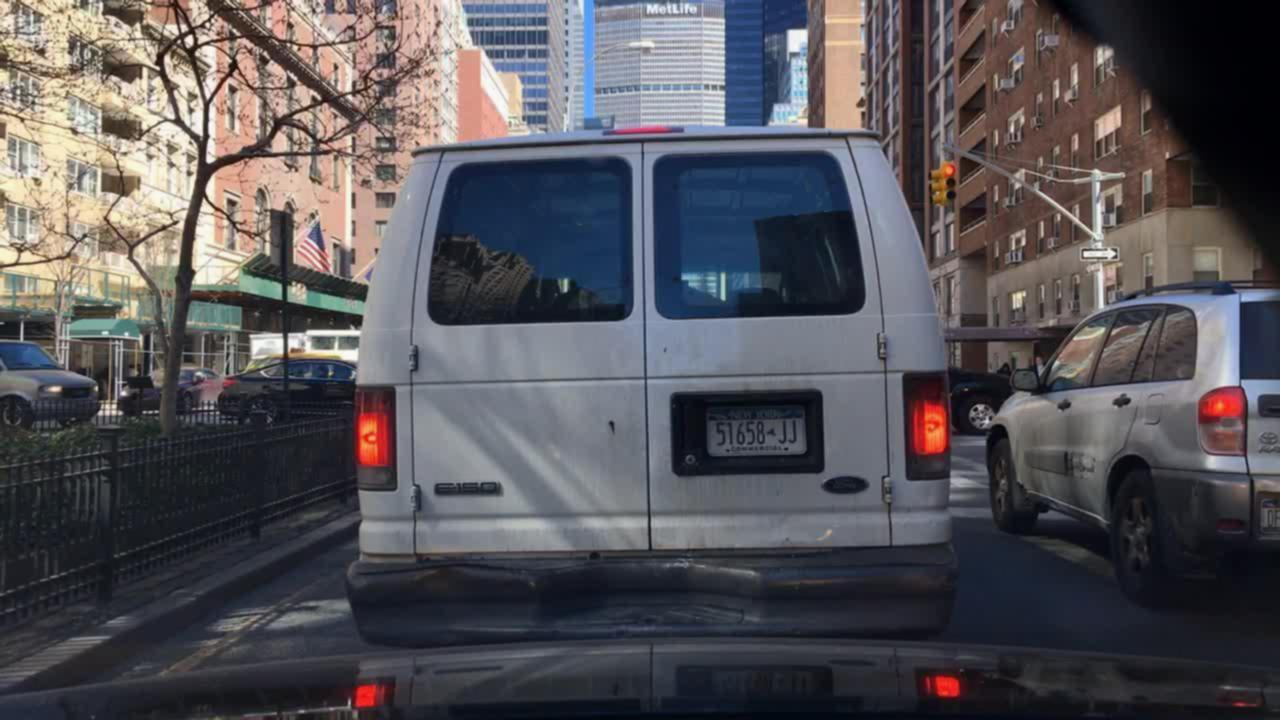Toyota: (1258, 430, 1280, 452)
ford: (814, 471, 875, 509)
